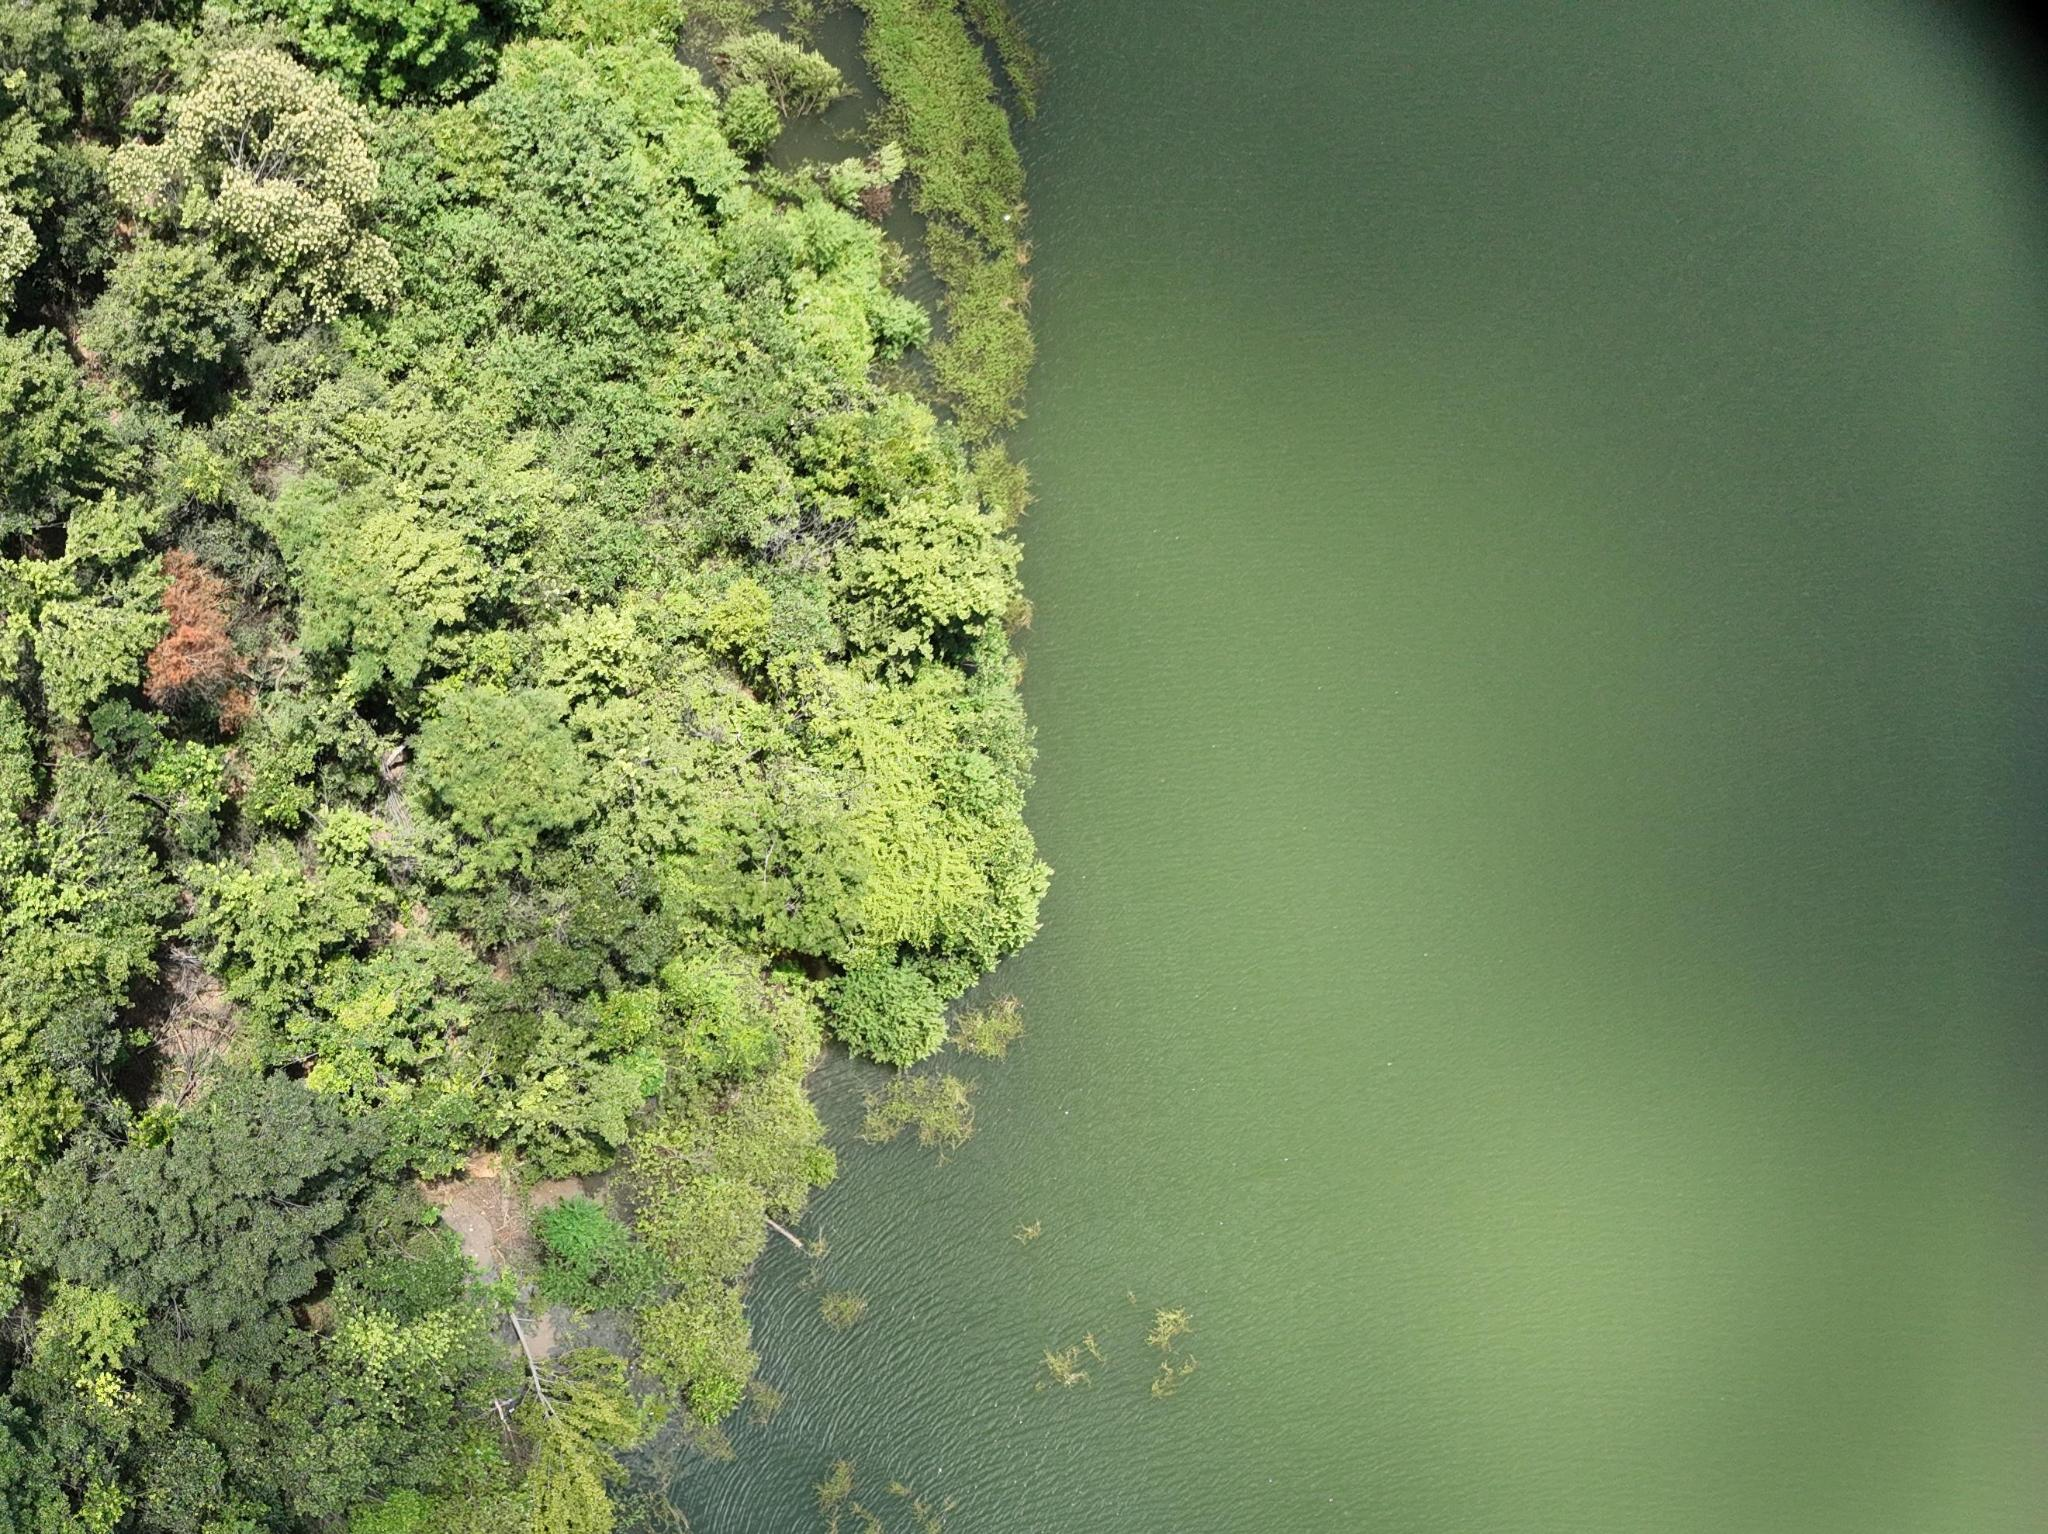heavy: (148, 543, 261, 741)
